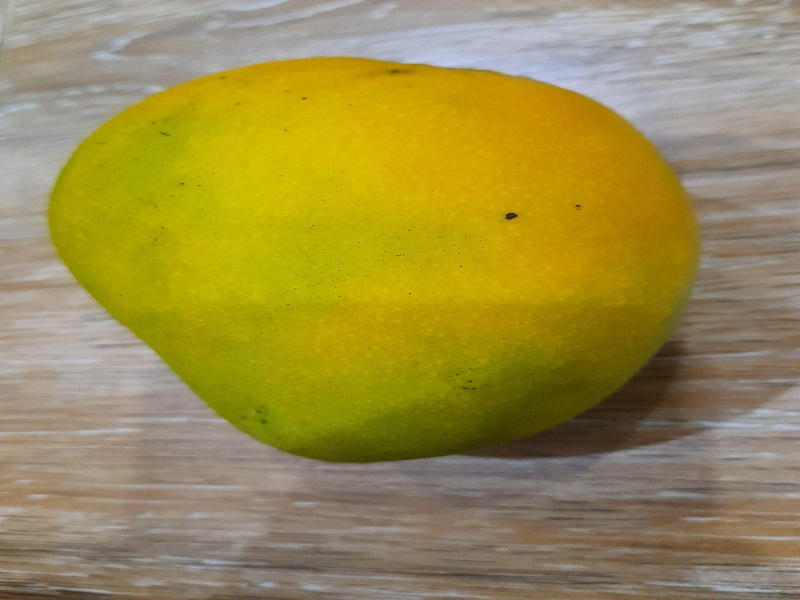fruit: (46, 52, 705, 474)
